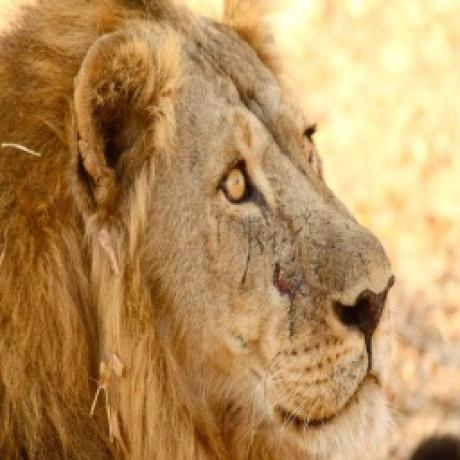Lion: (0, 0, 401, 460)
